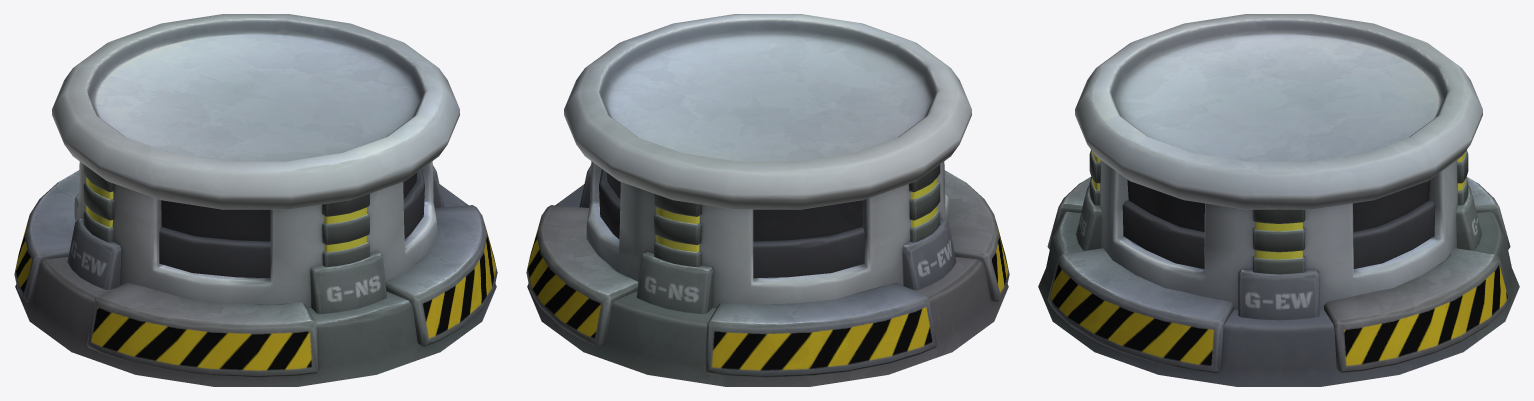
Rendered from SM_TowerDefense_SciFi_Lv1.fbx.
3 renders of one model, left to right at view 1: azimuth 30°, elevation 25°; view 2: azimuth 150°, elevation 25°; view 3: azimuth 270°, elevation 25°, orthographic.
Visible parts, largest first — view 1: SM_TowerDefense_SciFi_Lv1; view 2: SM_TowerDefense_SciFi_Lv1; view 3: SM_TowerDefense_SciFi_Lv1.
Part boxes in pixels (x1,y1,x2,y2): SM_TowerDefense_SciFi_Lv1: (14,14,497,386); SM_TowerDefense_SciFi_Lv1: (526,14,1009,386); SM_TowerDefense_SciFi_Lv1: (1038,14,1519,386).
Bounding box in the file's own units: 982 × 451 × 998.
